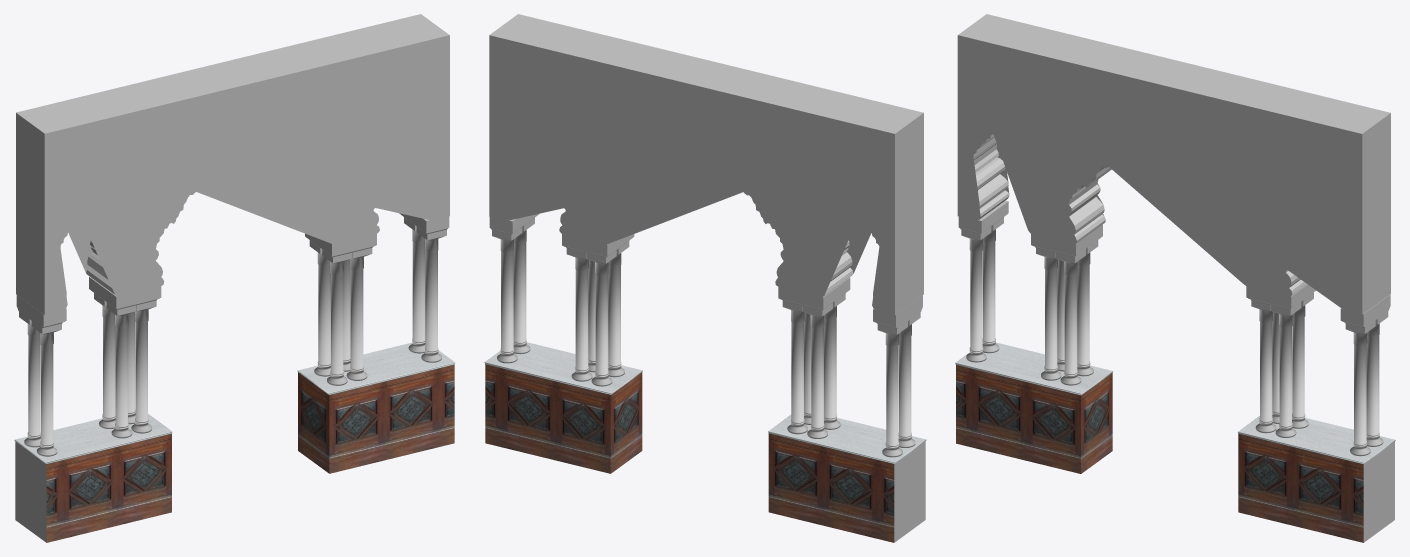
Rendered from arco_biblioteca.fbx.
3 views of the same model, side by side, from view 1: azimuth 30°, elevation 25°; view 2: azimuth 150°, elevation 25°; view 3: azimuth 330°, elevation 25° (orthographic).
Visible parts, largest first — view 1: arco_biblioteca; view 2: arco_biblioteca; view 3: arco_biblioteca.
Part boxes in pixels (x1,y1,x2,y2): arco_biblioteca: (14,14,455,542); arco_biblioteca: (484,14,926,542); arco_biblioteca: (955,14,1395,542).
Size of the model in its own units: 3688 by 3505 by 492.
